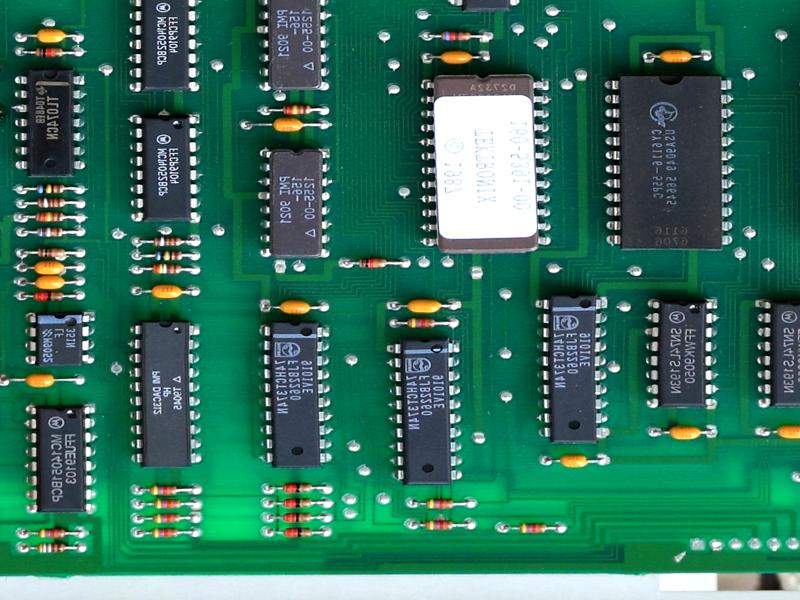Resistor: (434, 25, 477, 44), (274, 509, 321, 526), (31, 194, 76, 211), (28, 287, 68, 306), (32, 539, 74, 557), (145, 231, 189, 248), (401, 313, 442, 331), (29, 223, 75, 239), (422, 495, 462, 513), (419, 517, 464, 533), (32, 243, 72, 261), (29, 44, 69, 62), (28, 181, 75, 196), (277, 478, 321, 494), (352, 254, 393, 271), (514, 519, 554, 536), (275, 101, 317, 117), (29, 210, 75, 224), (33, 524, 73, 540), (147, 263, 192, 277), (147, 526, 186, 542), (146, 496, 190, 510), (144, 483, 187, 497), (147, 248, 187, 263), (279, 525, 321, 539), (147, 512, 187, 525), (277, 497, 318, 509)
